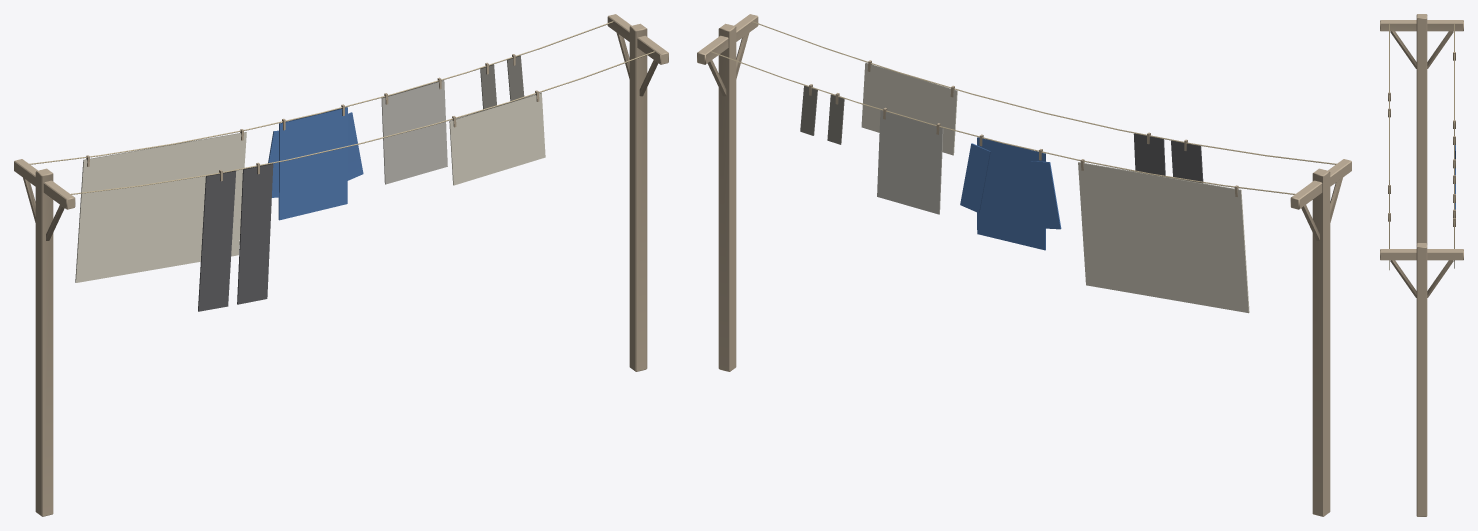
Rendered from clothes_line.glb.
3 renders of one model, left to right at view 1: azimuth 30°, elevation 25°; view 2: azimuth 150°, elevation 25°; view 3: azimuth 270°, elevation 25°, orthographic. The views are drawn at different scales.
Visible parts, largest first — view 1: static; view 2: static; view 3: static.
Part boxes in pixels (x1,y1,x2,y2): static: (14,14,668,516); static: (697,14,1351,516); static: (1380,14,1463,516).
Size of the model in its own units: 4.08 by 2.2 by 0.62.
